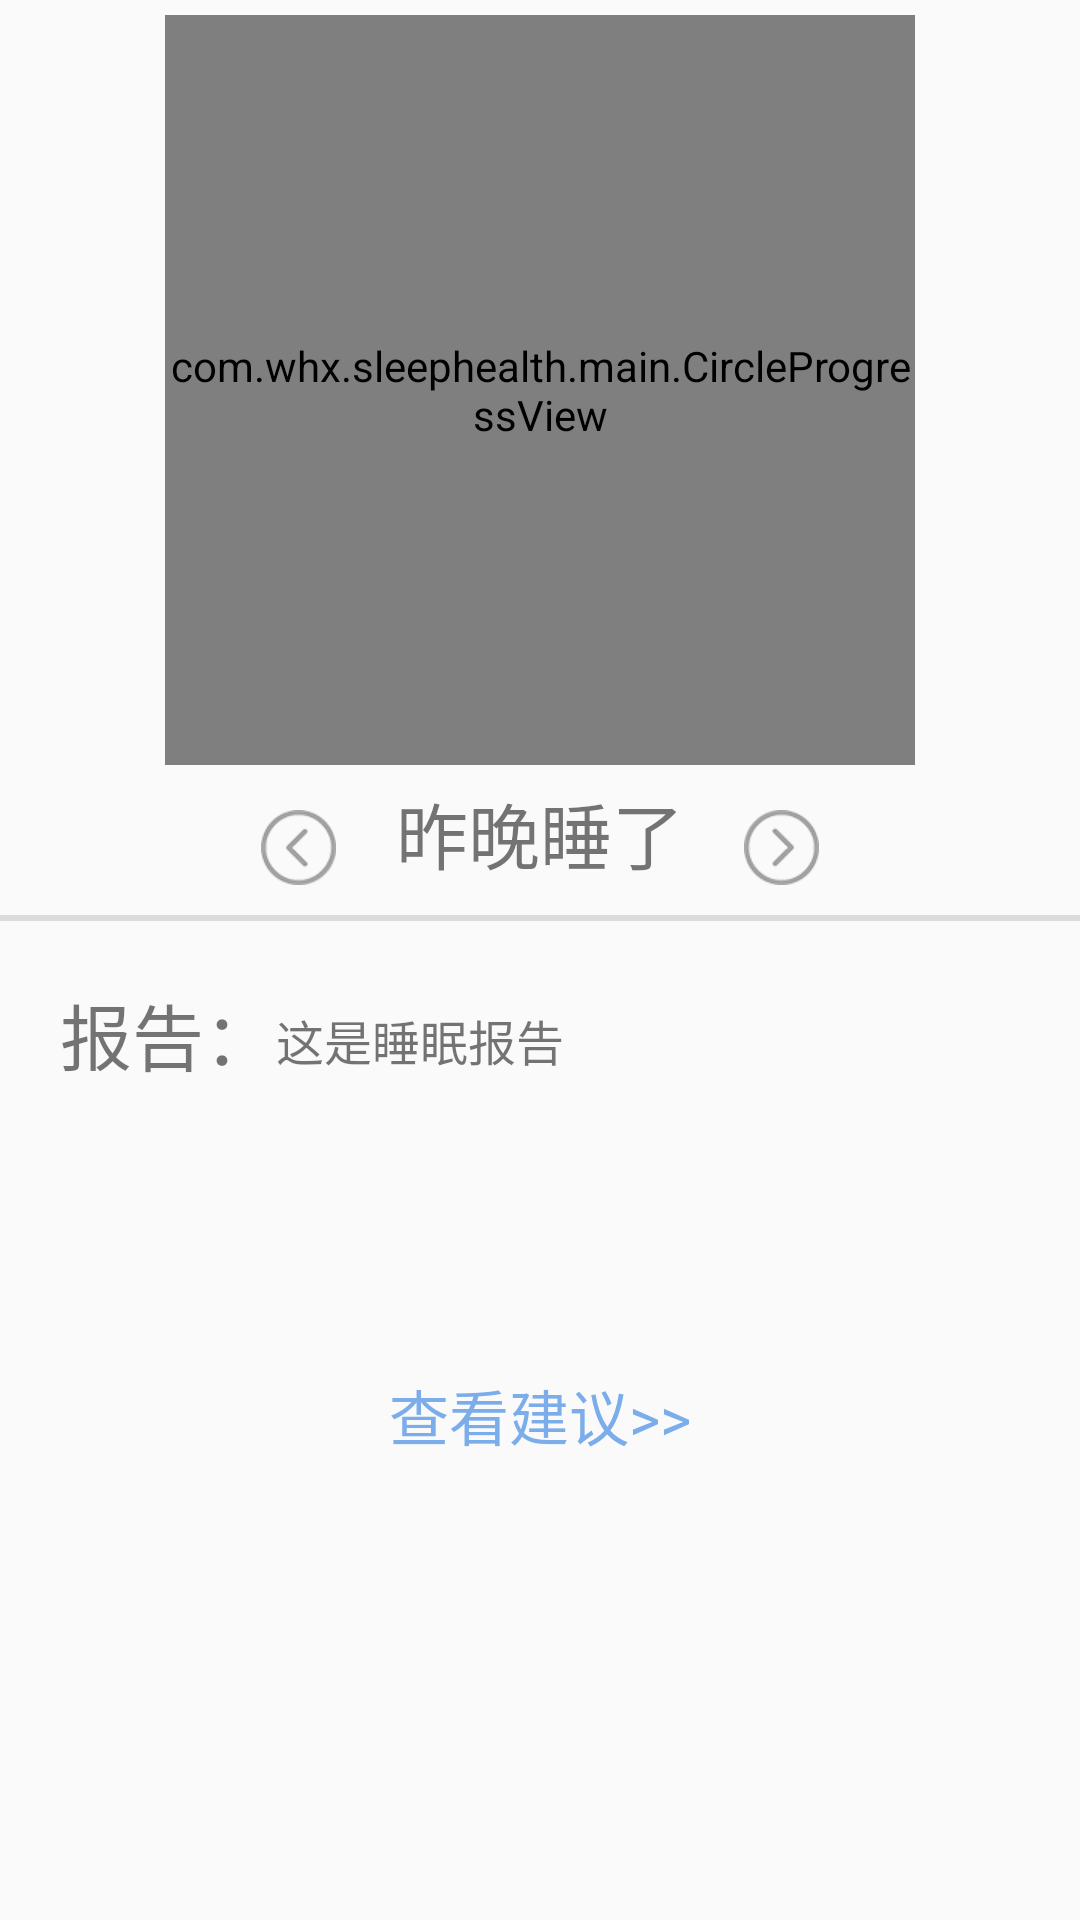

Screen size 1080px x 1920px. Icon name, then its box in pixels as (x1, y1, x2, y2):
next: (744, 810, 819, 885)
pre: (261, 810, 336, 885)
